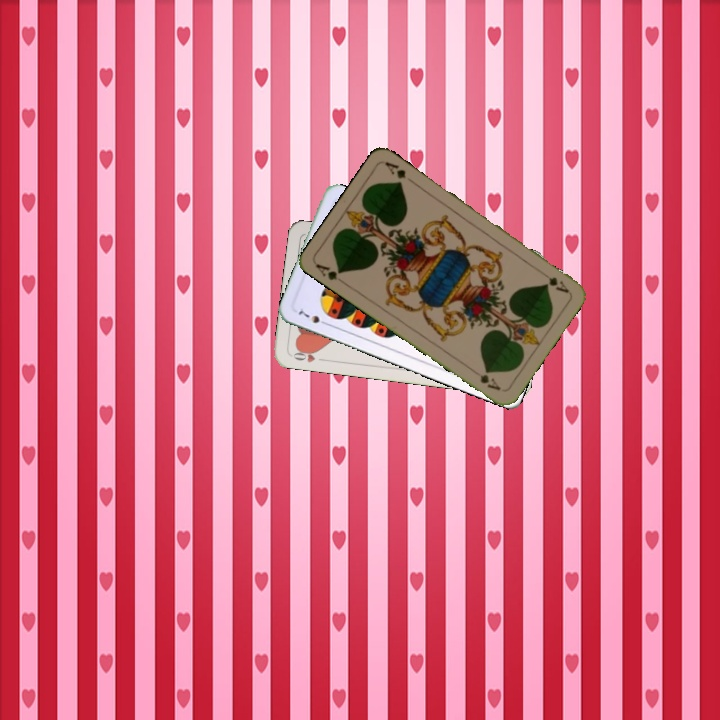GA: (312, 259, 348, 287), (537, 267, 571, 296)
HO: (289, 345, 328, 365)
S7: (294, 304, 331, 328)
